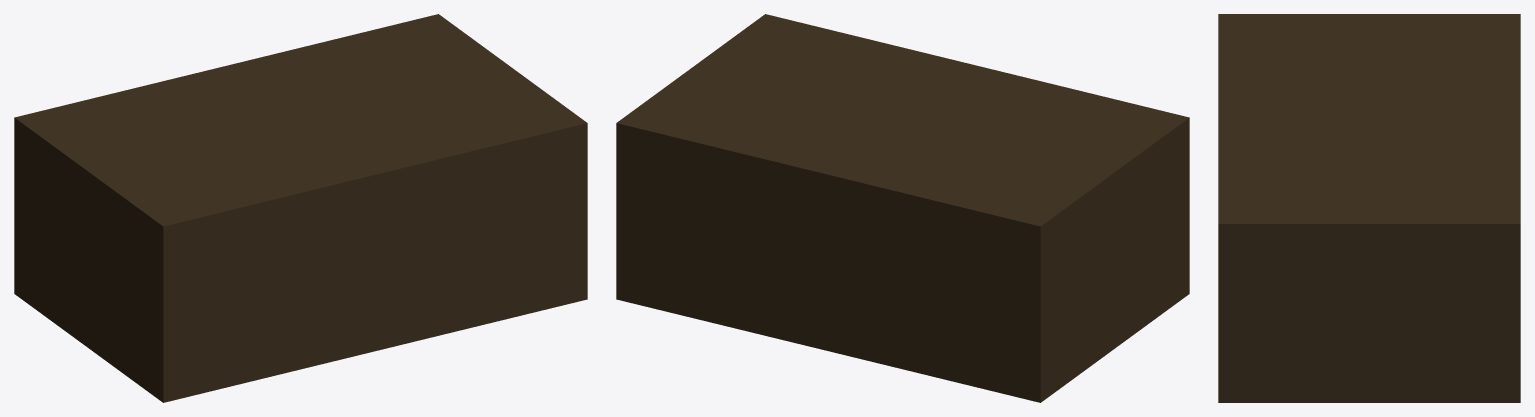
The model's file is Itr_Obj_Grandfatherclock2_Base_02.FBX.
3 renders of one model, left to right at view 1: azimuth 30°, elevation 25°; view 2: azimuth 150°, elevation 25°; view 3: azimuth 270°, elevation 25°, orthographic.
Parts seen in each view (by area): view 1: Itr_Obj_Grandfatherclock2_Base_02; view 2: Itr_Obj_Grandfatherclock2_Base_02; view 3: Itr_Obj_Grandfatherclock2_Base_02.
Boxes of the visible parts, x1,y1,x2,y2 form: Itr_Obj_Grandfatherclock2_Base_02: (14,14,587,402); Itr_Obj_Grandfatherclock2_Base_02: (616,14,1189,402); Itr_Obj_Grandfatherclock2_Base_02: (1218,14,1520,402).
Bounding box in the file's own units: 23.06 × 9.16 × 14.03.
